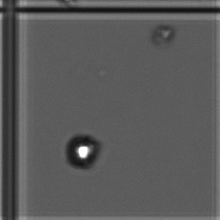Dead Cell: (149, 24, 176, 46)
Living Cell: (64, 132, 100, 169)
